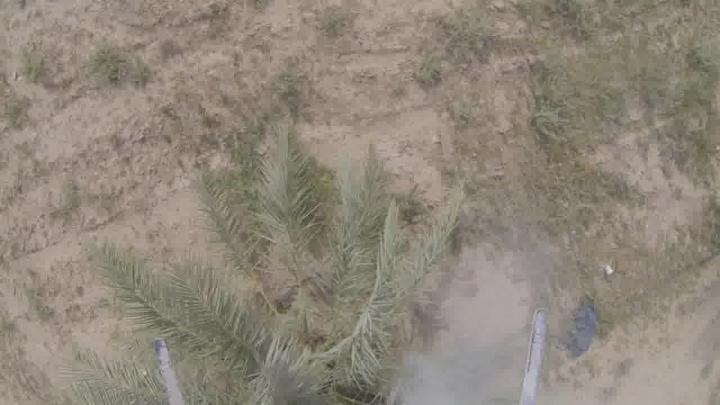Date-Palm-Crown: (192, 186, 450, 404)
